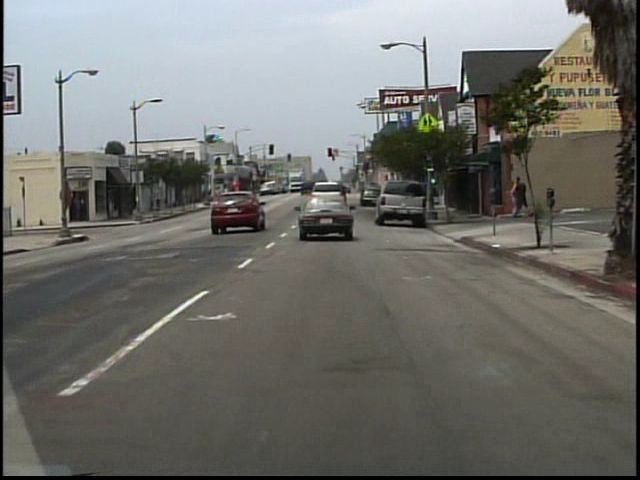person: (516, 177, 528, 218), (508, 182, 521, 219), (156, 190, 165, 214)
